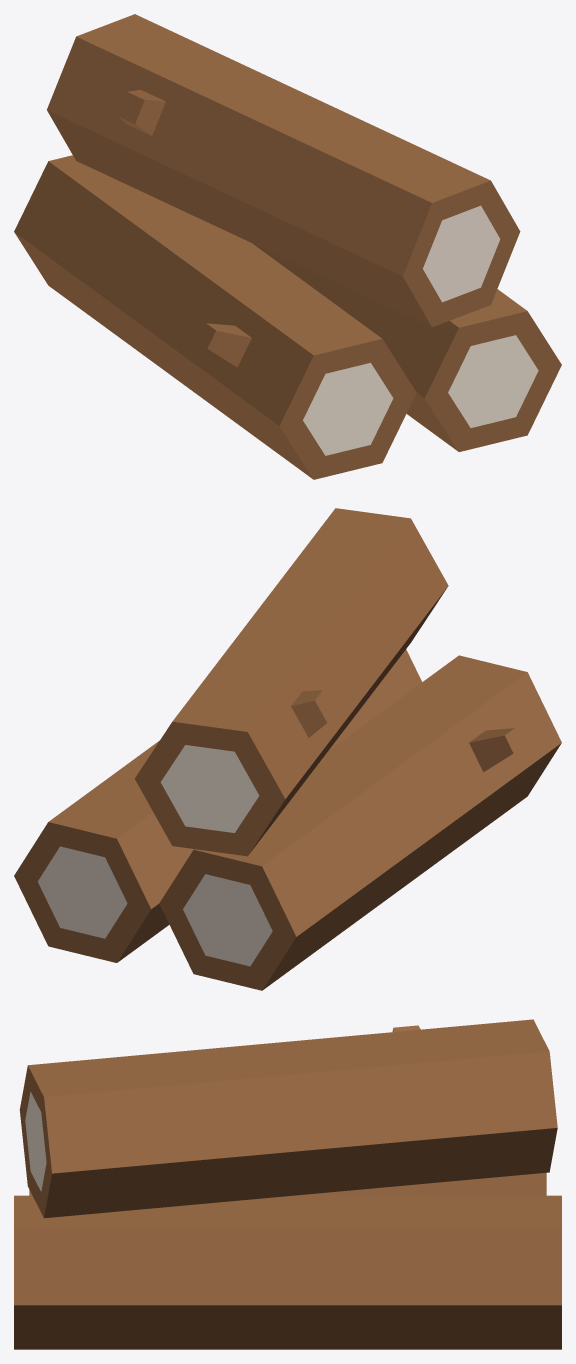
File: log_stack.glb
The picture shows the model from 3 angles, top to bottom: view 1: azimuth 30°, elevation 25°; view 2: azimuth 150°, elevation 25°; view 3: azimuth 270°, elevation 25°; orthographic projection. The views are drawn at different scales.
Parts seen in each view (by area): view 1: log_stack; view 2: log_stack; view 3: log_stack.
Boxes of the visible parts, x1,y1,x2,y2 form: log_stack: [14, 14, 561, 479]; log_stack: [14, 508, 561, 990]; log_stack: [14, 1019, 561, 1349].
Size of the model in its own units: 0.4247 by 0.3464 by 0.71.
